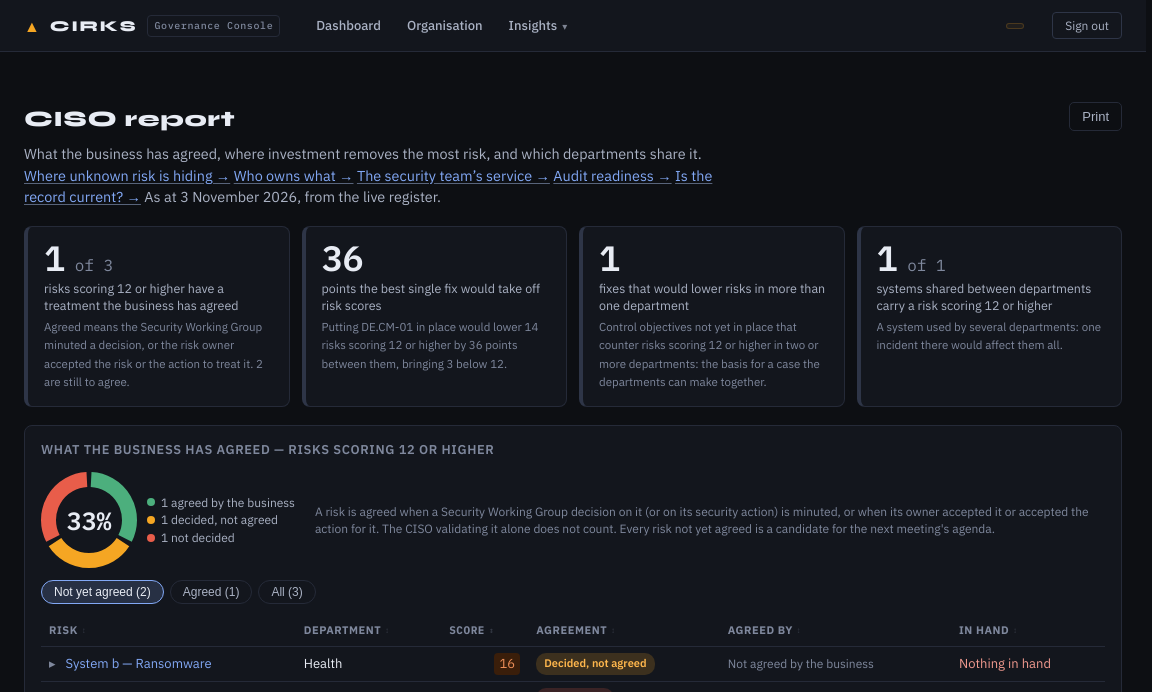
it: CISO report › lists the risks not yet agreed first, and the agreed ones on request
The width and height of the screenshot is (1152, 692).
Expected: the button "▸ System b — Ransomware" is shown, [49,654,212,674]
Expected: the text "System a — Ransomware" is not shown
Click the button "Agreed (1)": (211, 592) [170,580,252,604]
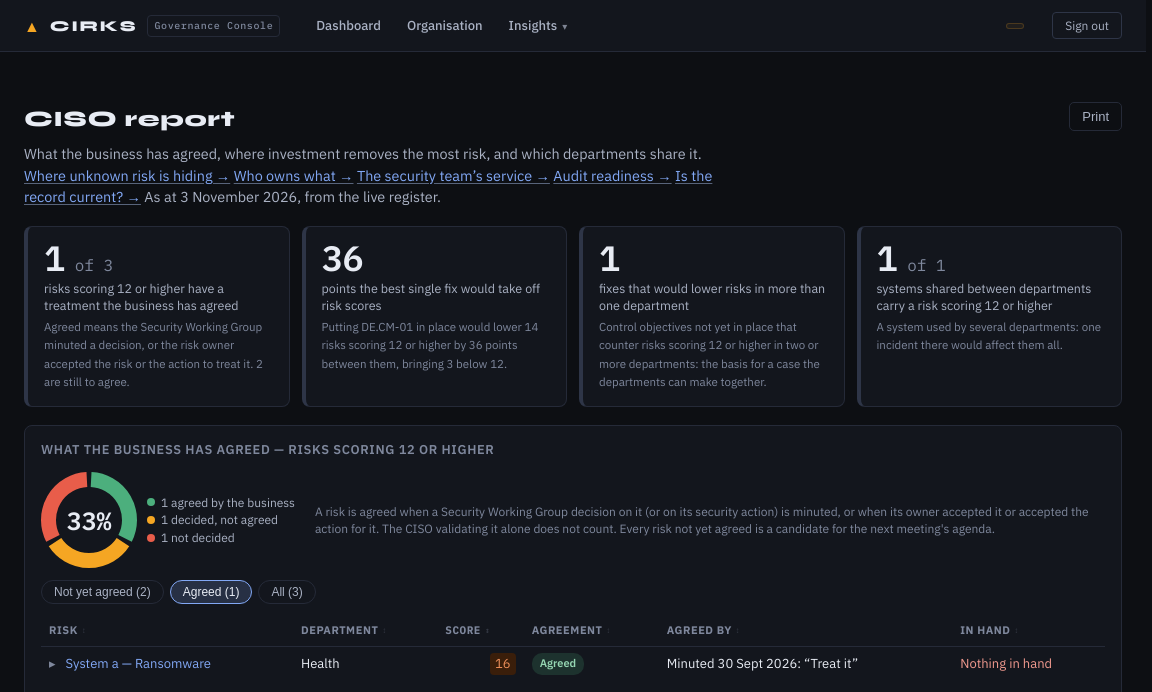
Expected: the text "Minuted 30 Sept 2026: “Treat it”" is shown, [667,655,858,672]
